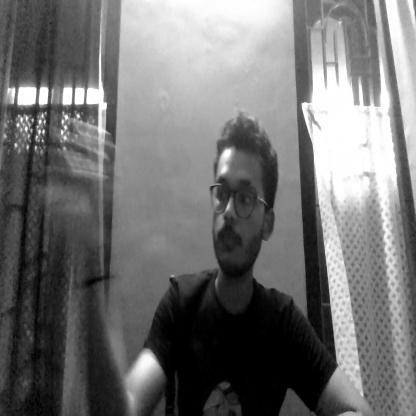Distracted: (202, 100, 274, 277)
